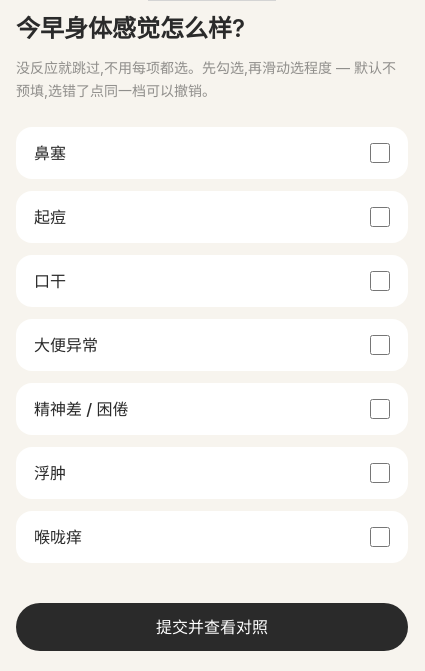
Scenario: U7 Step 1 盲打卡 › 提交失败 → errorMessage,不 navigate
The image size is (425, 671).
(page scrolled)
Click the button "提交并查看对照" at (212, 626), box [16,602,408,650]
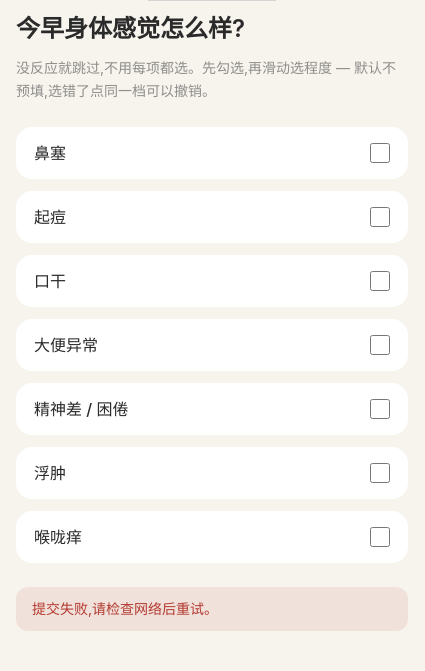
Now the message shows "提交失败", box [32,600,218,616]
